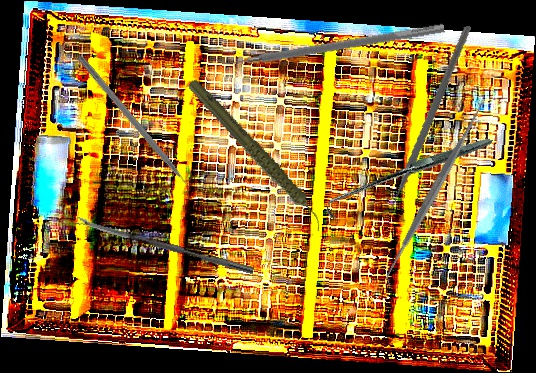Chopper: (346, 25, 498, 216), (70, 54, 198, 204)
Handpiece: (184, 57, 327, 254)
Hook Surgical: (324, 96, 493, 260)
Spatula Surgical: (374, 99, 493, 288), (214, 14, 445, 73)
Surgical Spoon: (75, 215, 255, 275)
